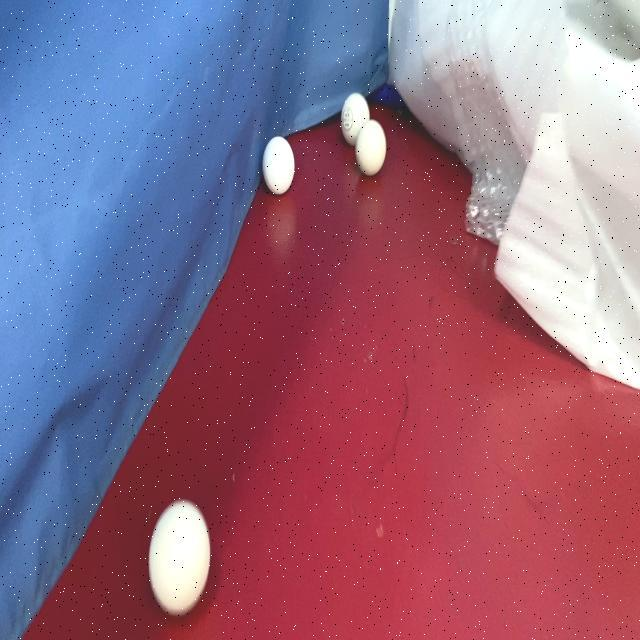ping-pong-ball: (148, 496, 212, 618), (261, 134, 297, 198), (354, 116, 388, 176)
